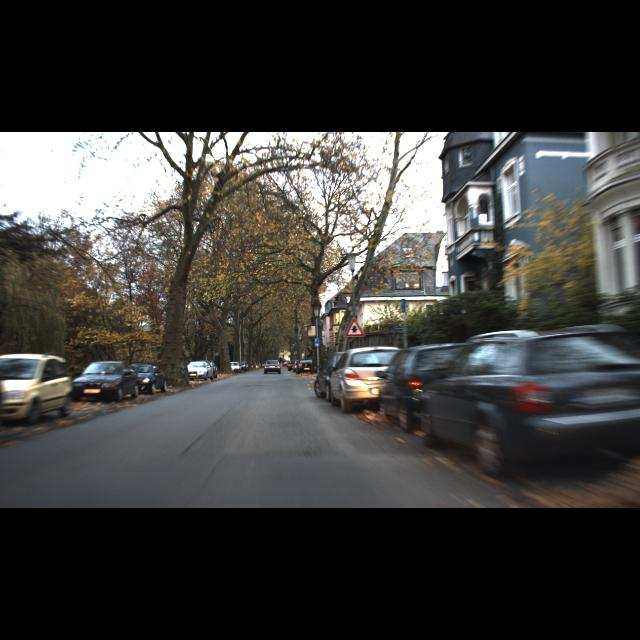danger: (344, 318, 366, 337)
